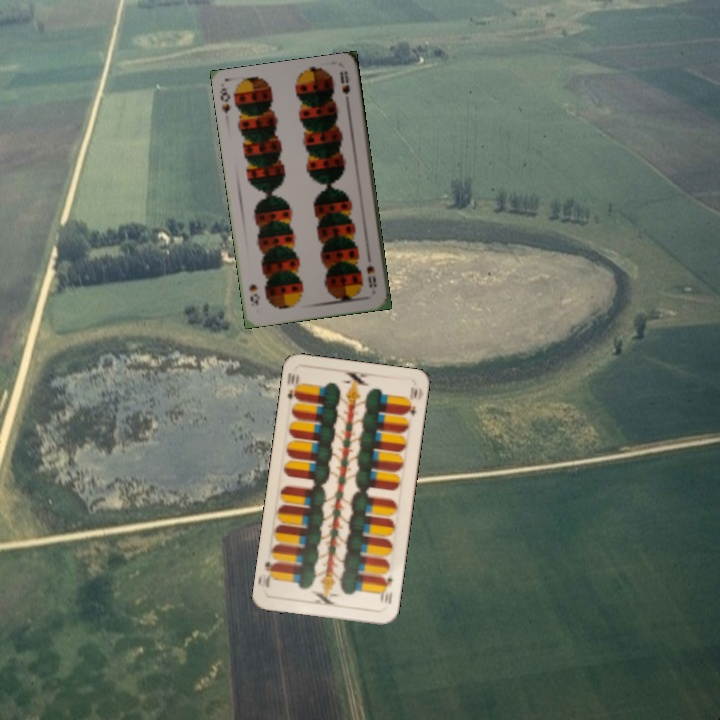E10: (283, 368, 303, 404), (376, 573, 395, 607)
S8: (216, 84, 234, 116), (363, 261, 379, 290)
